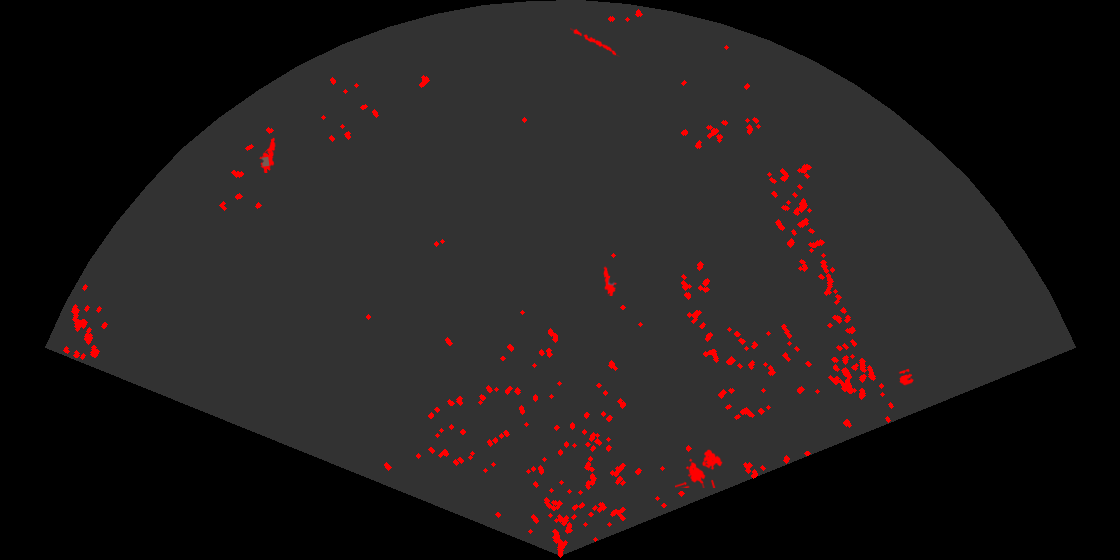ball: (897, 367, 915, 387)
cage: (675, 448, 724, 488)
chain: (570, 26, 621, 57)
frogman: (258, 137, 277, 173), (602, 266, 619, 296)
